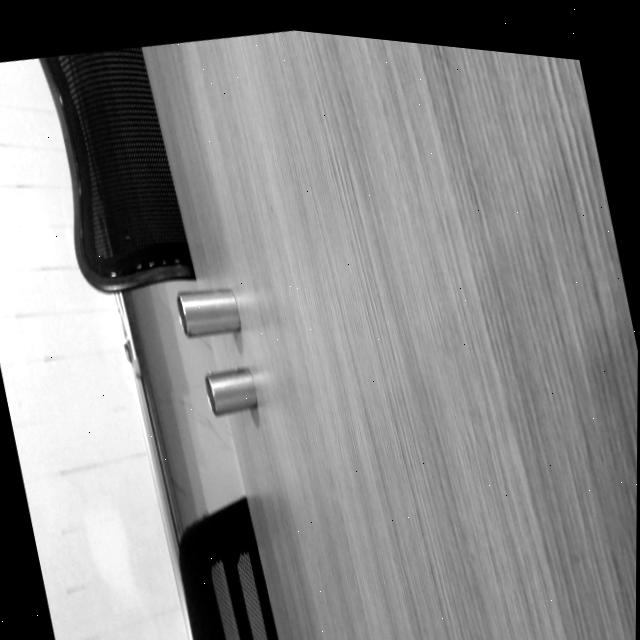Co_Lon: (176, 284, 241, 338)
Co_Nho: (203, 364, 259, 415)
